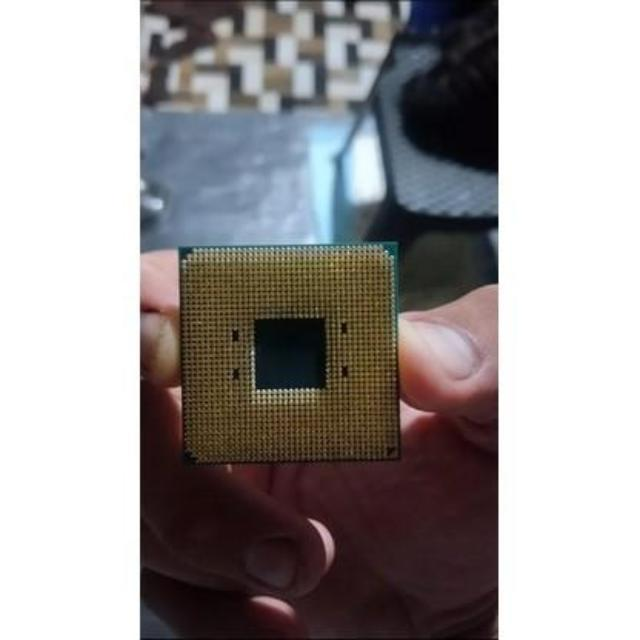CPU: (176, 248, 398, 464)
